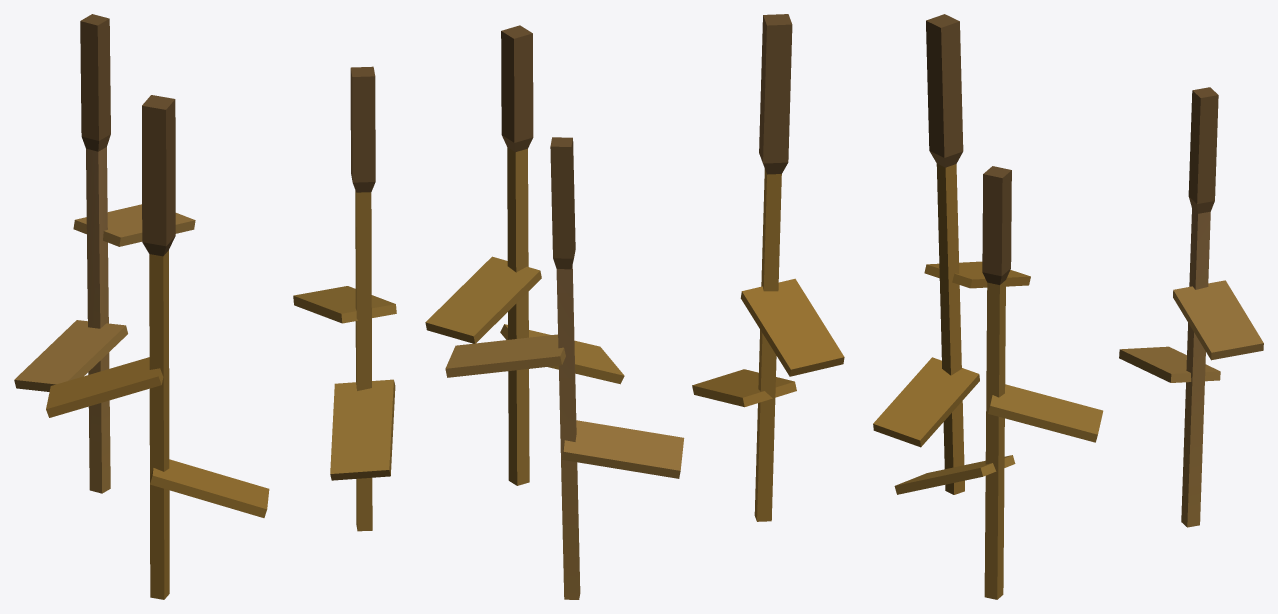
The model's file is barleystage2.glb.
3 views of the same model, side by side, from view 1: azimuth 30°, elevation 25°; view 2: azimuth 150°, elevation 25°; view 3: azimuth 270°, elevation 25° (orthographic). The views are drawn at different scales.
Parts seen in each view (by area): view 1: Cube.003; view 2: Cube.003; view 3: Cube.003.
Part boxes in pixels (left/top/right/bottom): Cube.003: left=14, top=14, right=396, bottom=599; Cube.003: left=425, top=14, right=844, bottom=599; Cube.003: left=873, top=14, right=1263, bottom=599.
Size of the model in its own units: 0.8385 by 1.11 by 0.8399.
